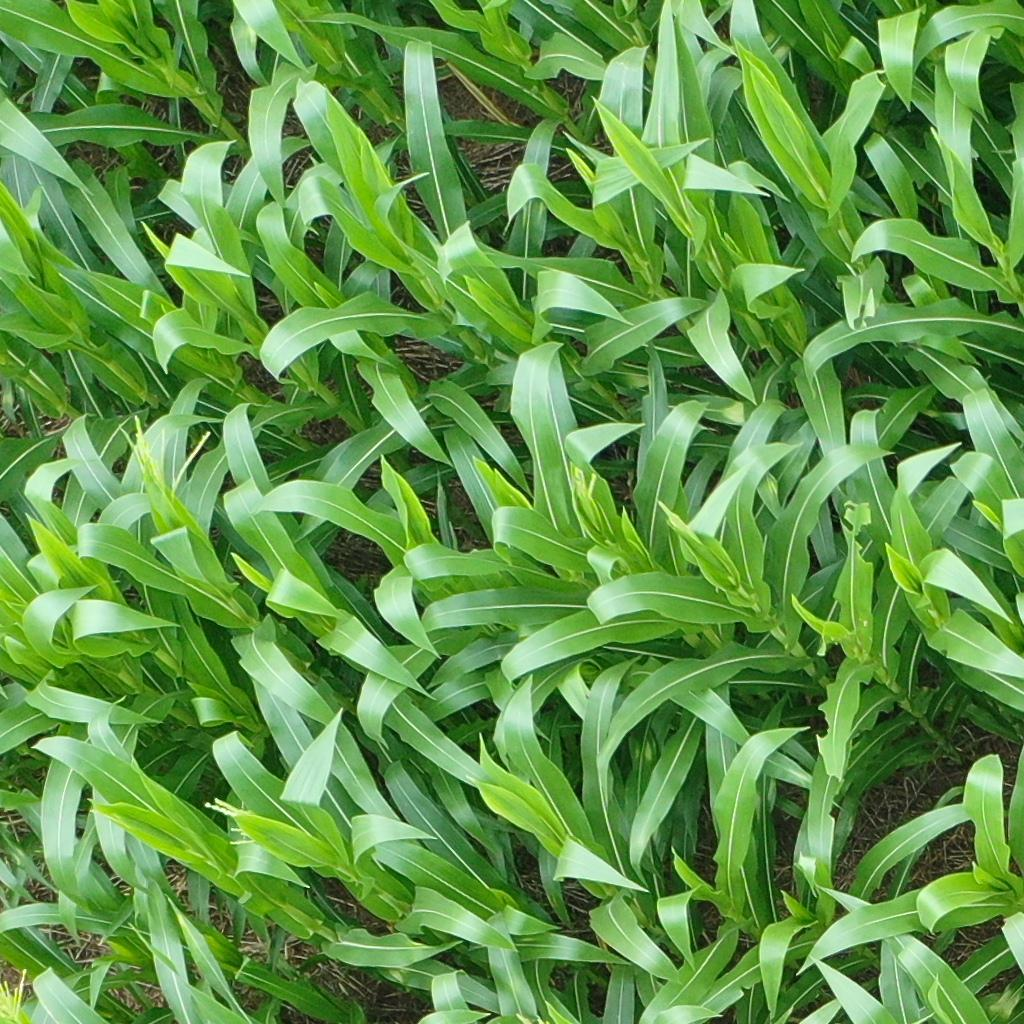Tassel: (117, 410, 213, 505), (203, 793, 262, 849), (655, 497, 700, 541), (1, 966, 29, 1021), (572, 465, 598, 502)
